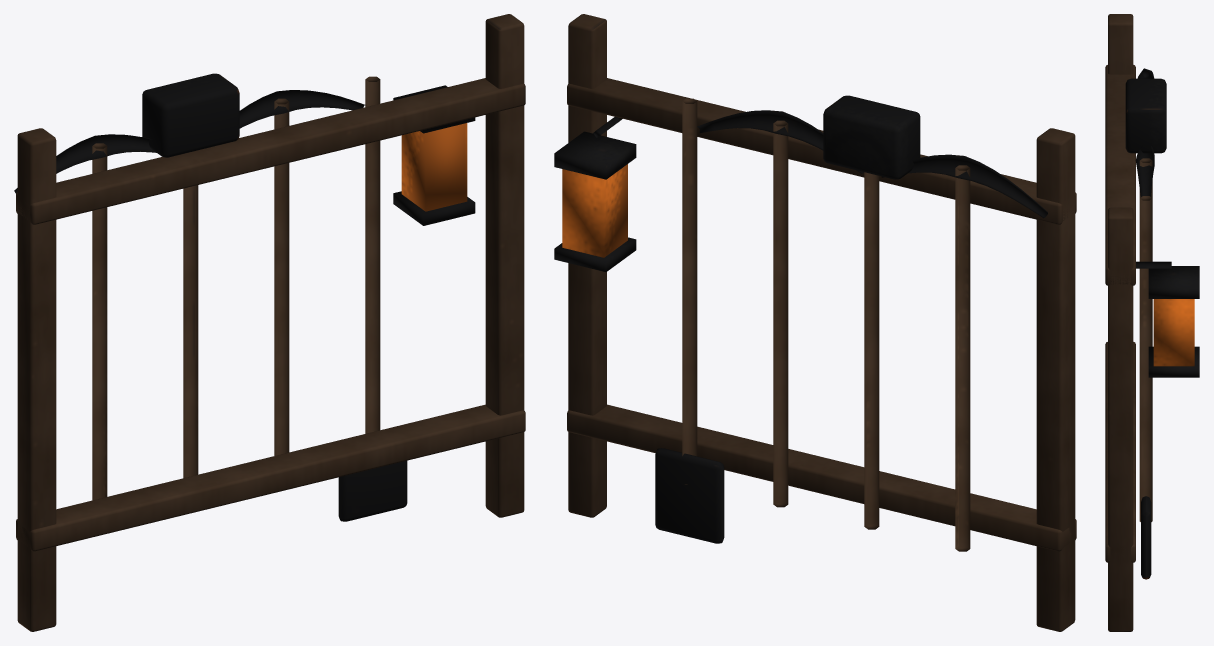
The model's file is tool_rack.obj.
3 renders of one model, left to right at view 1: azimuth 30°, elevation 25°; view 2: azimuth 150°, elevation 25°; view 3: azimuth 270°, elevation 25°, orthographic. The views are drawn at different scales.
Visible parts, largest first — view 1: part0, part1, fire; view 2: part0, part1, fire; view 3: part0, part1, fire.
Part boxes in pixels (x1,y1,x2,y2): part0: (16, 14, 525, 631); part1: (14, 73, 475, 521); fire: (401, 123, 467, 211); part0: (567, 14, 1076, 631); part1: (554, 95, 1047, 543); fire: (562, 164, 627, 257); part0: (1105, 14, 1152, 631); part1: (1125, 68, 1199, 579); fire: (1153, 299, 1194, 366).
Size of the model in its own units: 1.9 by 1.8 by 0.37.
